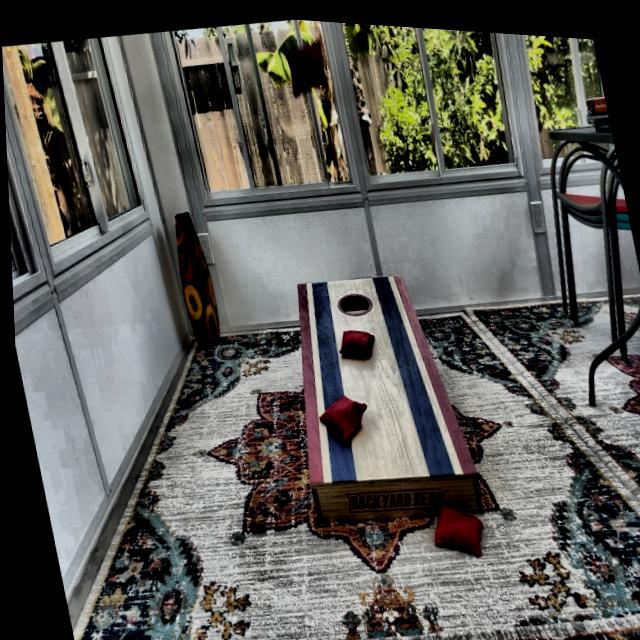board: (288, 261, 445, 485)
hole: (332, 283, 372, 315)
red-bean-bag: (423, 493, 484, 557), (312, 387, 370, 441), (282, 33, 331, 95), (332, 319, 375, 355)
